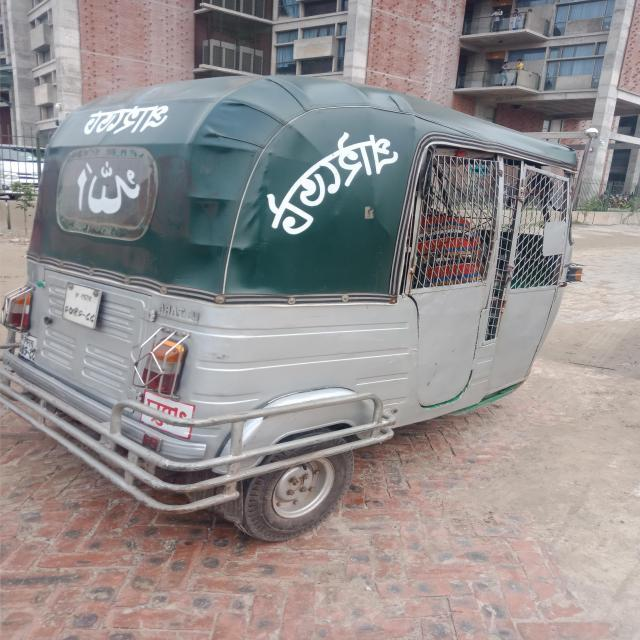CNG: (1, 53, 615, 564)
